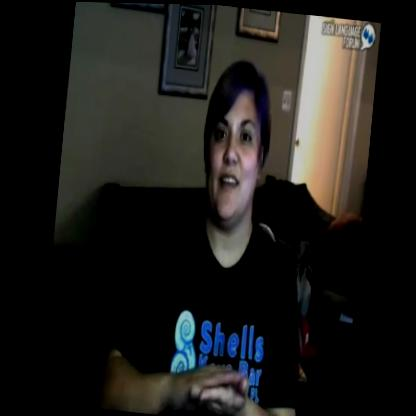NiceToMeetYou: (173, 333, 256, 416)
